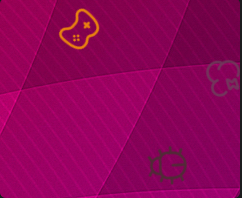cloud: (196, 55, 240, 101)
game: (55, 6, 107, 55)
ladybug: (143, 142, 190, 189)
